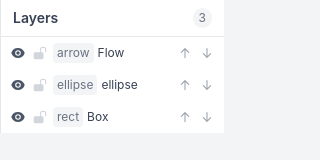
Test: LayersPanel › inline label editing › cancels editing on Escape without updating the store
Click the text with test id "layer-label-r1". click: (98, 116)
box: [87,109,108,124]
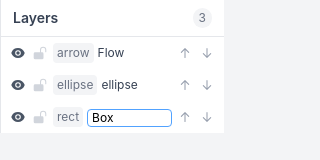
Replace the text in the field with test id "layer-label-input-r1" with "Changed". click: (130, 118)
box: [87,109,172,127]
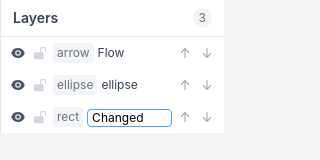
Press Escape in the field with test id "layer-label-input-r1", box [87,109,172,127]
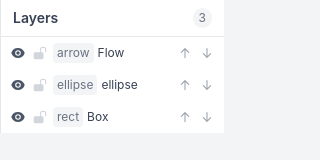
Now the text "Box" is shown, box [87,109,108,124]
Now the field with test id "layer-label-input-r1" is gone
